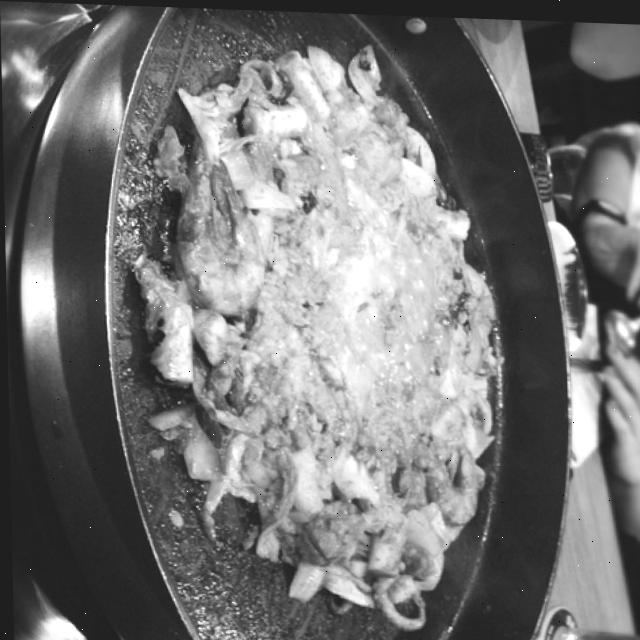鸡肉料理 含炸鸡: (26, 13, 592, 640)
